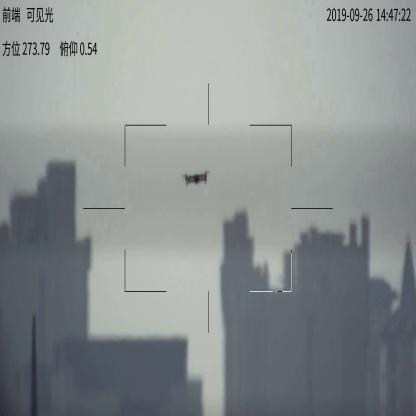uav: (178, 173, 212, 191)
